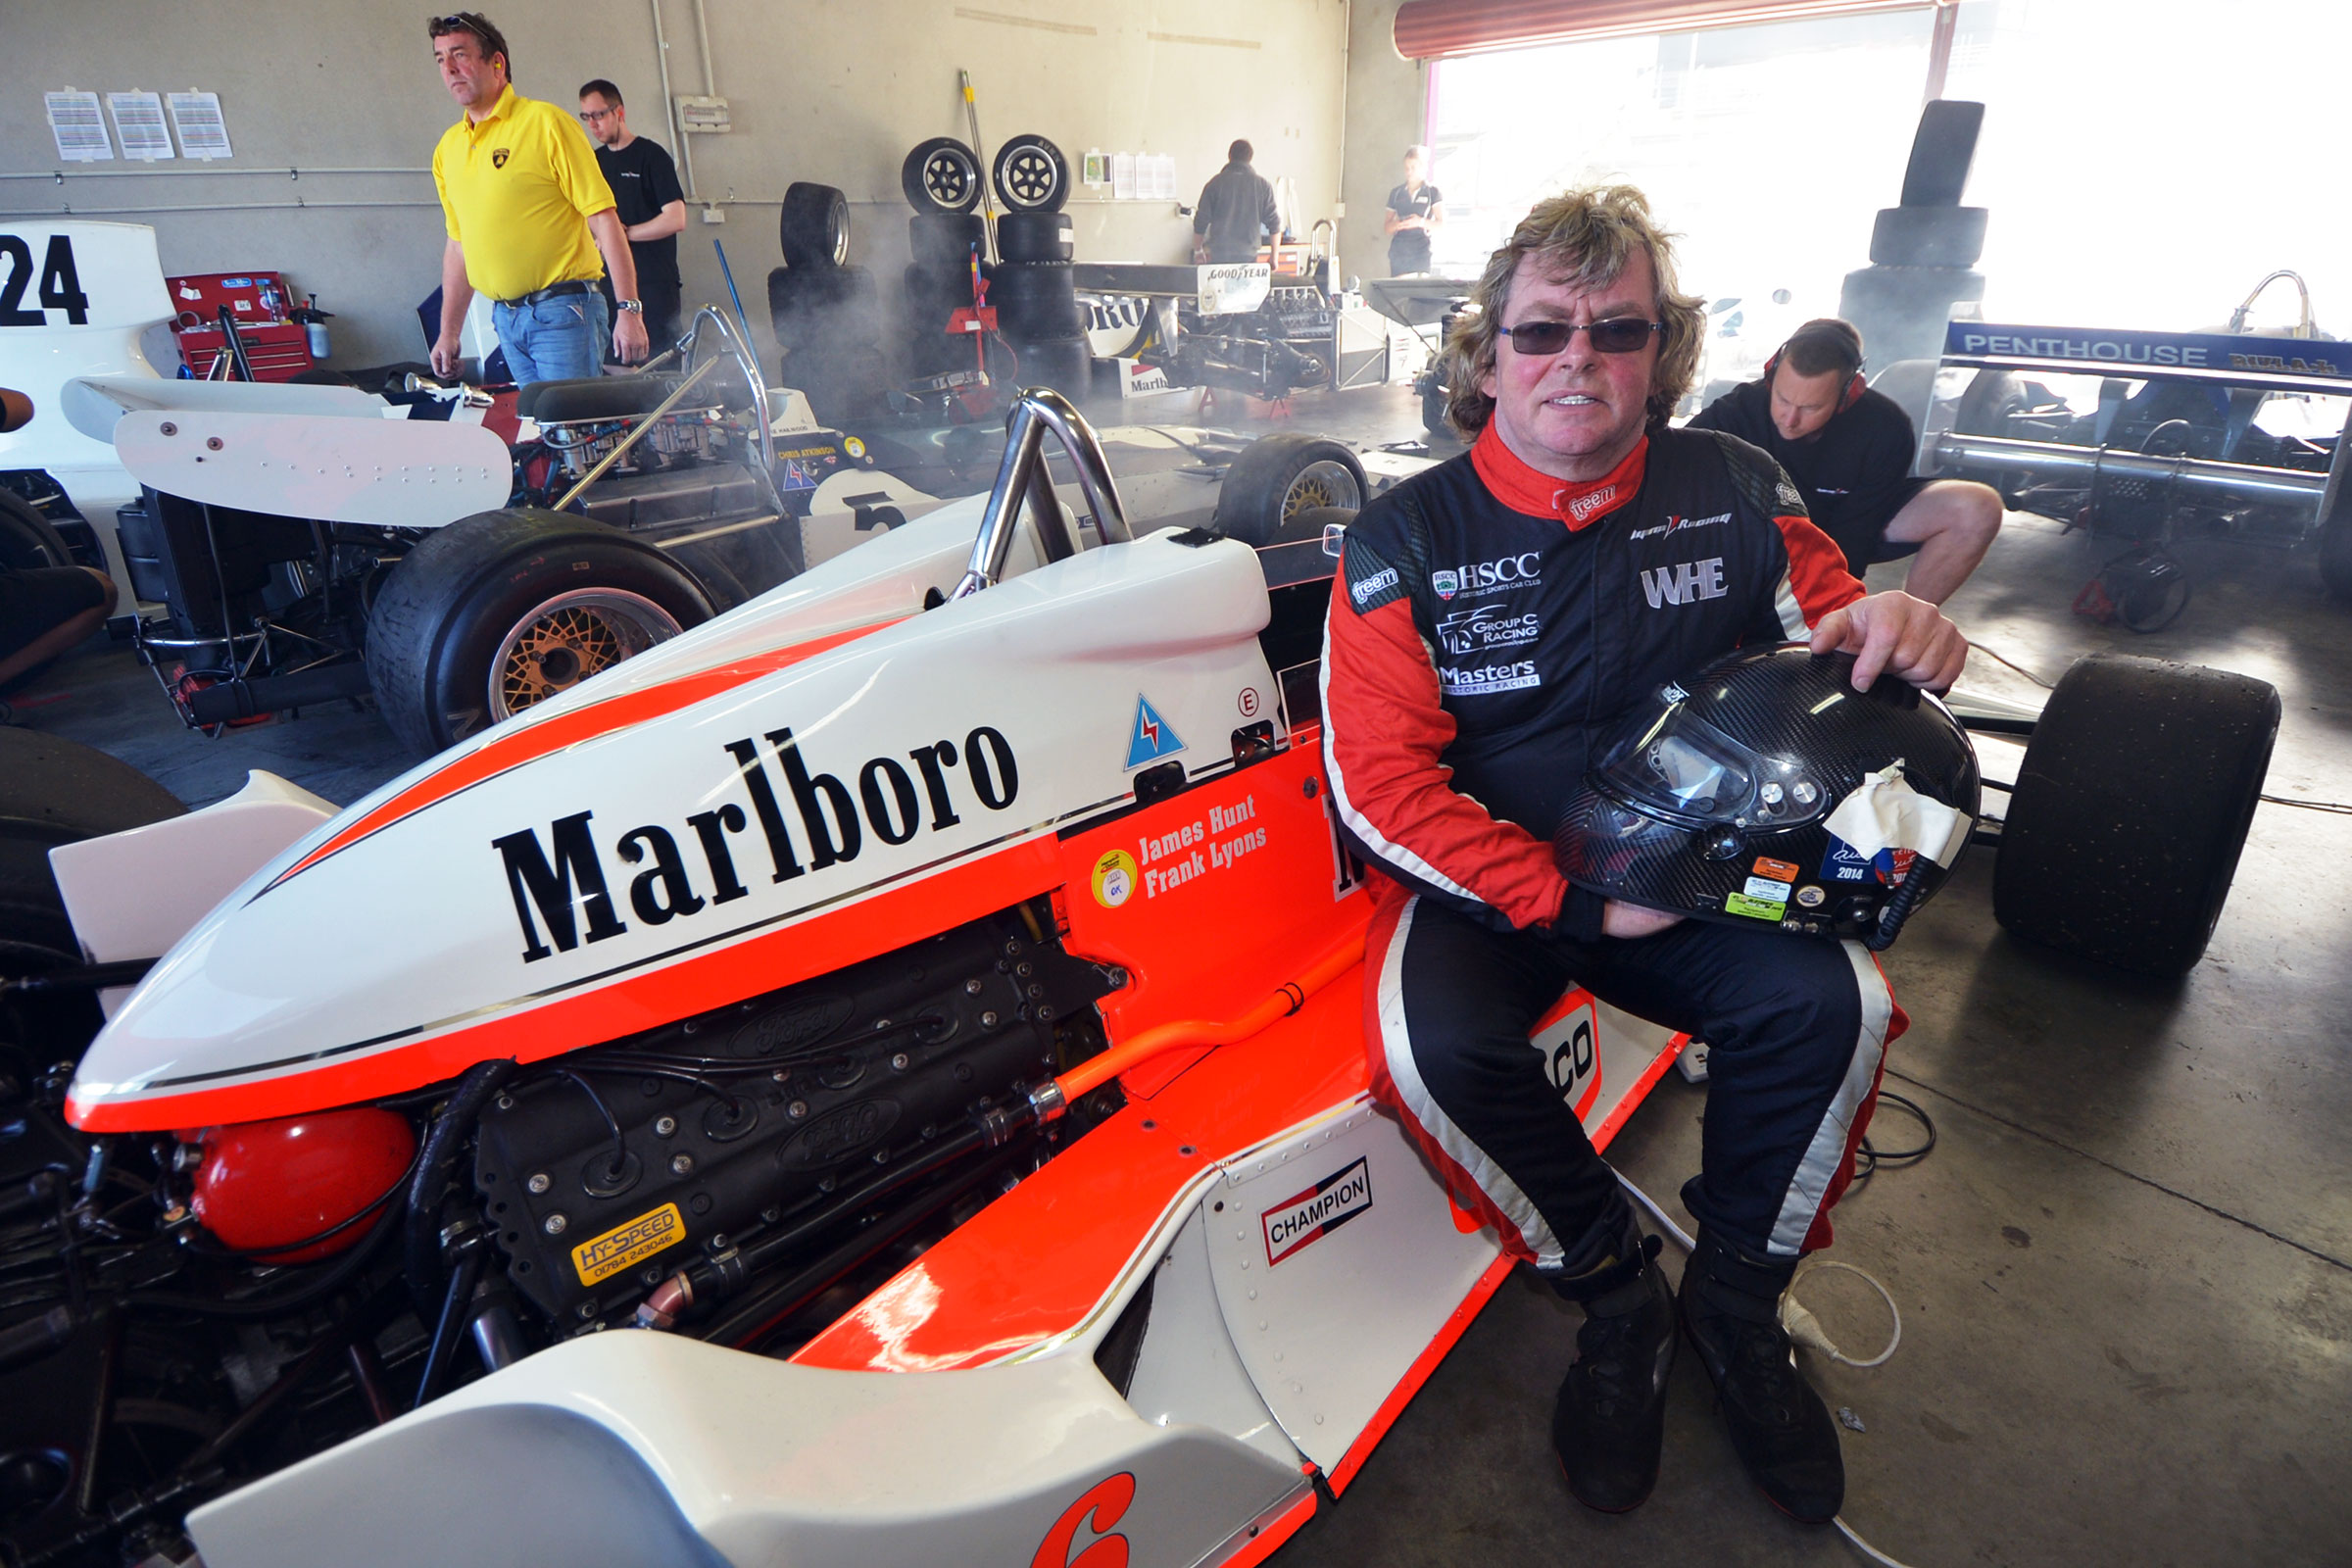f1_car: (14, 420, 2289, 1568)
helmet: (1543, 614, 2011, 987)
